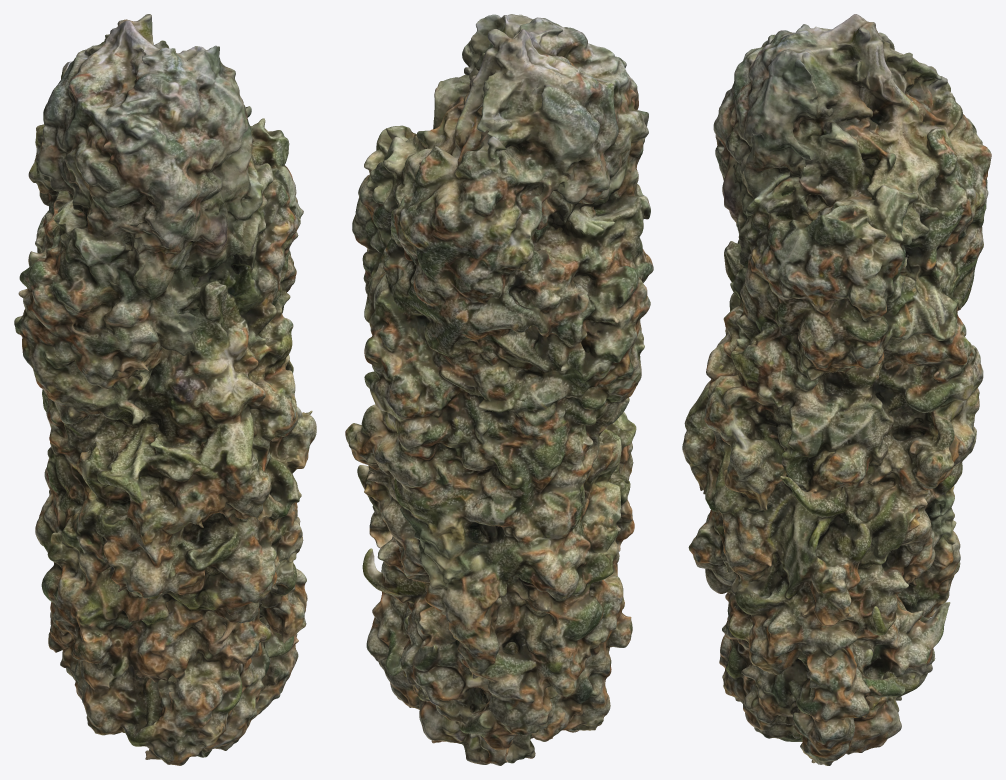
File: cryptobud.glb
The picture shows the model from 3 angles, left to right: view 1: azimuth 30°, elevation 25°; view 2: azimuth 150°, elevation 25°; view 3: azimuth 270°, elevation 25°; orthographic projection. The views are drawn at different scales.
Parts seen in each view (by area): view 1: Object_9, Object_13, Object_17, Object_25, Object_19, Object_35, Object_27, Object_15, Object_23, Object_37, Object_29, Object_21 (+4 smaller); view 2: Object_7, Object_21, Object_25, Object_27, Object_23, Object_19, Object_11, Object_29, Object_15, Object_9, Object_33, Object_13 (+4 smaller); view 3: Object_31, Object_21, Object_11, Object_13, Object_15, Object_17, Object_29, Object_19, Object_9, Object_7, Object_27, Object_37 (+4 smaller).
Boxes of the visible parts, box(x1,y1,x2,y2) form: Object_9: box(43, 45, 290, 712); Object_13: box(14, 14, 310, 704); Object_17: box(37, 175, 303, 752); Object_25: box(22, 21, 293, 656); Object_19: box(28, 20, 282, 756); Object_35: box(18, 56, 300, 744); Object_27: box(44, 41, 306, 759); Object_15: box(42, 120, 278, 763); Object_23: box(19, 61, 293, 687); Object_37: box(40, 15, 312, 727); Object_29: box(33, 58, 297, 765); Object_21: box(42, 19, 307, 643); Object_7: box(364, 89, 643, 765); Object_21: box(360, 29, 648, 758); Object_25: box(364, 18, 642, 691); Object_27: box(364, 29, 642, 764); Object_23: box(384, 88, 631, 735); Object_19: box(384, 16, 653, 736); Object_11: box(352, 52, 648, 704); Object_29: box(366, 37, 649, 748); Object_15: box(352, 114, 636, 697); Object_9: box(358, 14, 636, 633); Object_33: box(345, 46, 633, 761); Object_13: box(367, 29, 653, 670); Object_31: box(737, 87, 958, 745); Object_21: box(704, 14, 986, 752); Object_11: box(745, 38, 983, 764); Object_13: box(690, 23, 960, 711); Object_15: box(713, 120, 944, 703); Object_17: box(682, 108, 960, 715); Object_29: box(684, 46, 979, 765); Object_19: box(719, 15, 989, 741); Object_9: box(714, 31, 960, 717); Object_7: box(703, 81, 983, 699); Object_27: box(700, 30, 991, 763); Object_37: box(705, 28, 966, 734).
Bounding box in the file's own units: 0.6198 × 1.62 × 0.6359.
16 materials, 16 textured.
